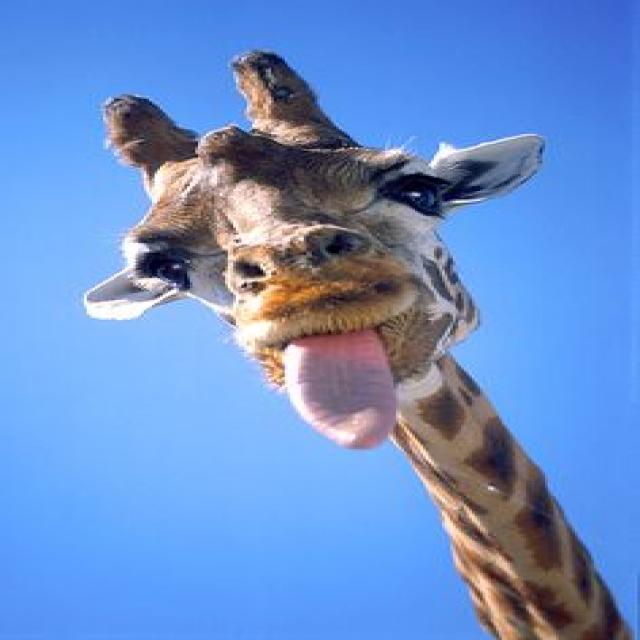Herbivorous: (81, 50, 632, 640)
